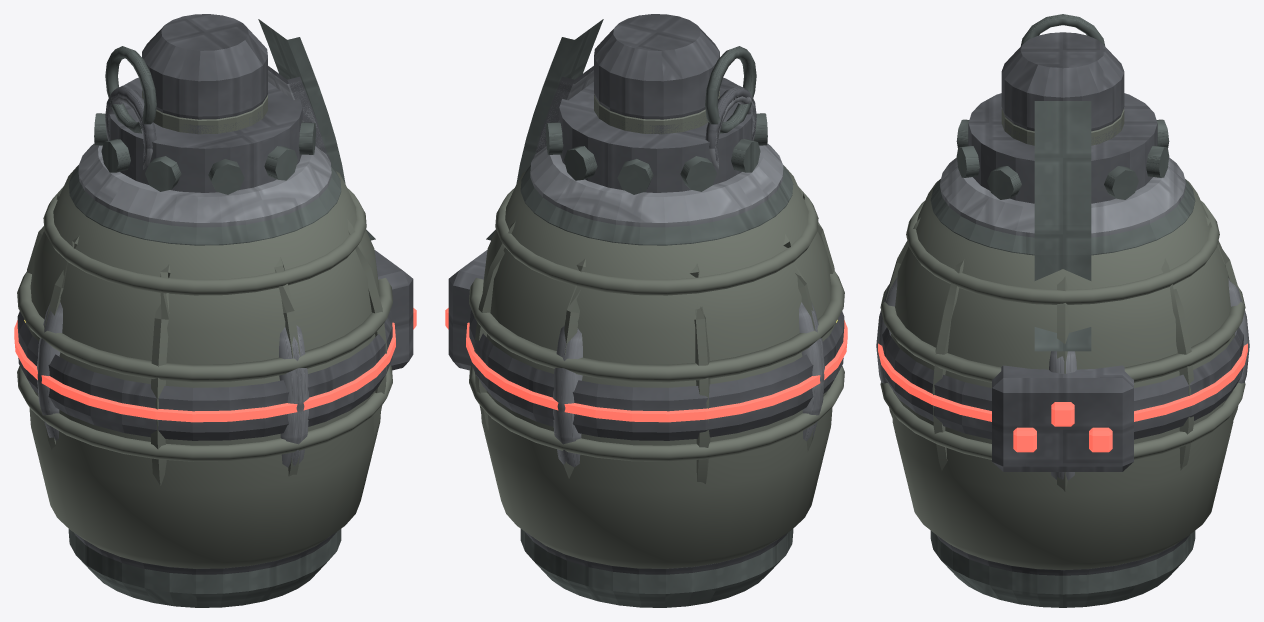
The model's file is grenades.glb.
3 renders of one model, left to right at view 1: azimuth 30°, elevation 25°; view 2: azimuth 150°, elevation 25°; view 3: azimuth 270°, elevation 25°, orthographic. The views are drawn at different scales.
Visible parts, largest first — view 1: Frag, Smoke, Thermal, Flashbang, Stun; view 2: Frag, Smoke, Thermal, Flashbang, Stun; view 3: Frag, Smoke, Thermal, Flashbang, Stun.
Part boxes in pixels (x1,y1,x2,y2): Frag: [17, 66, 392, 568]; Smoke: [68, 14, 375, 607]; Thermal: [14, 250, 416, 440]; Flashbang: [78, 70, 331, 227]; Stun: [37, 302, 308, 467]; Frag: [469, 66, 844, 568]; Smoke: [486, 14, 793, 607]; Thermal: [445, 250, 847, 440]; Flashbang: [530, 70, 783, 227]; Stun: [553, 302, 824, 467]; Frag: [880, 109, 1245, 569]; Smoke: [930, 14, 1195, 607]; Thermal: [878, 327, 1247, 471]; Flashbang: [940, 120, 1185, 237]; Stun: [876, 276, 1249, 480].
Bounding box in the file's own units: 0.084 × 0.1193 × 0.079.
Materials: 9 (3 with a texture image).
